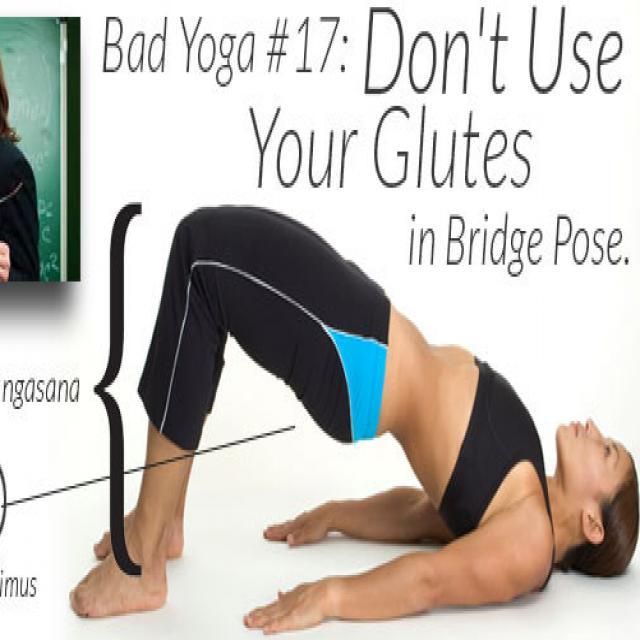yoga-pose bridge: (80, 185, 635, 632)
